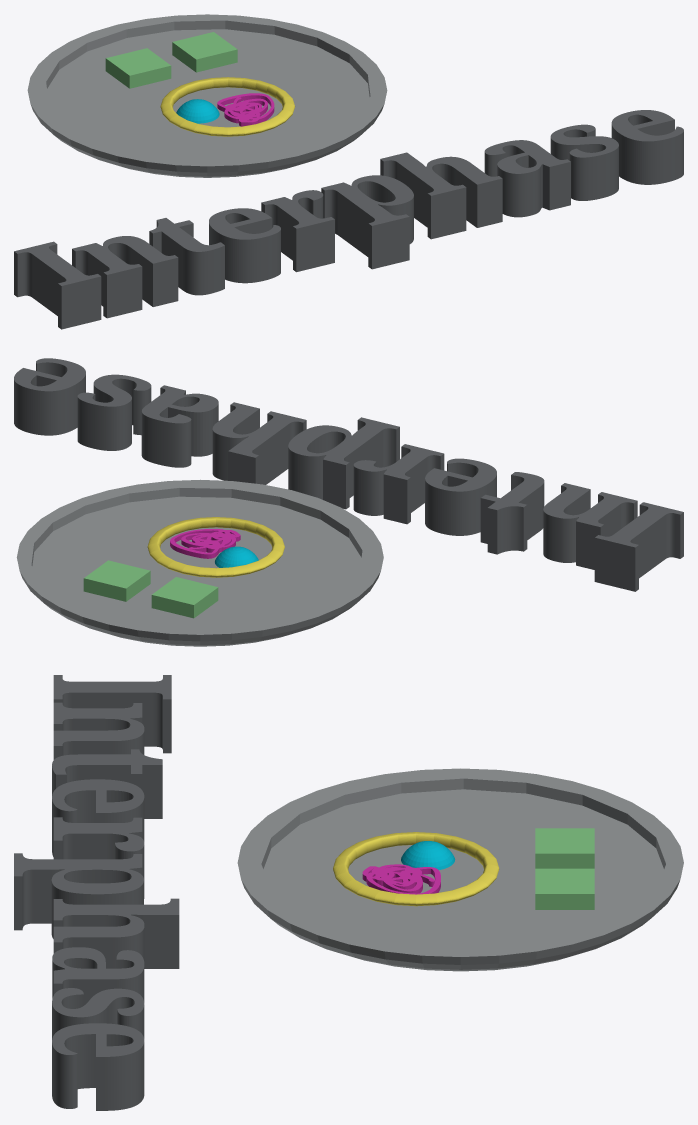
File: Interphase.glb
3 views of the same model, one above another, from view 1: azimuth 30°, elevation 25°; view 2: azimuth 150°, elevation 25°; view 3: azimuth 270°, elevation 25° (orthographic). The views are drawn at different scales.
Visible parts, largest first — view 1: Mesh_Mesh_head_geo.001_lambert2SG.001; view 2: Mesh_Mesh_head_geo.001_lambert2SG.001; view 3: Mesh_Mesh_head_geo.001_lambert2SG.001.
Part boxes in pixels (x1=…): Mesh_Mesh_head_geo.001_lambert2SG.001: x1=14, y1=14, x2=683, y2=329; Mesh_Mesh_head_geo.001_lambert2SG.001: x1=14, y1=358, x2=683, y2=646; Mesh_Mesh_head_geo.001_lambert2SG.001: x1=14, y1=675, x2=683, y2=1110.
Bounding box in the file's own units: 152 × 11 × 113.
